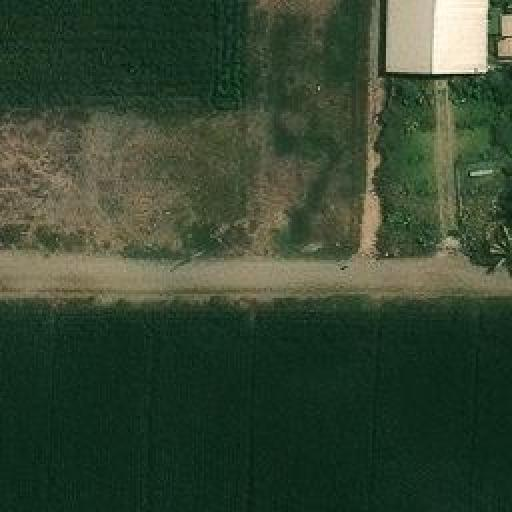manzanas: (381, 0, 510, 76)
